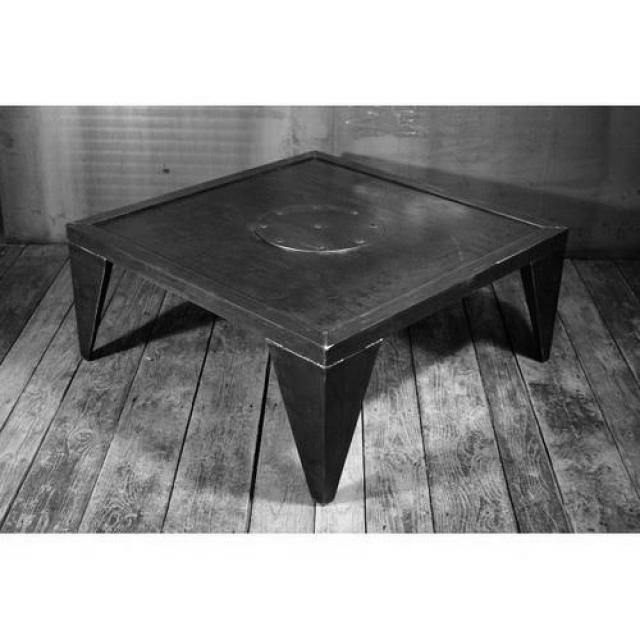table: (63, 148, 570, 502)
